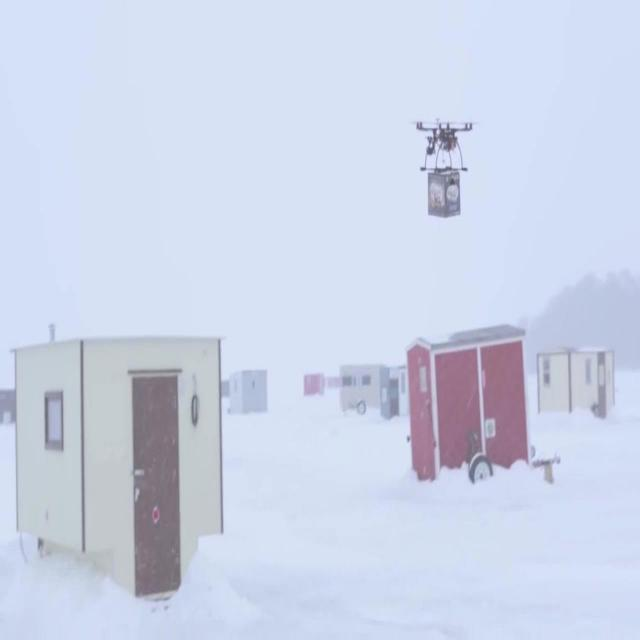UAV: (411, 118, 477, 171)
